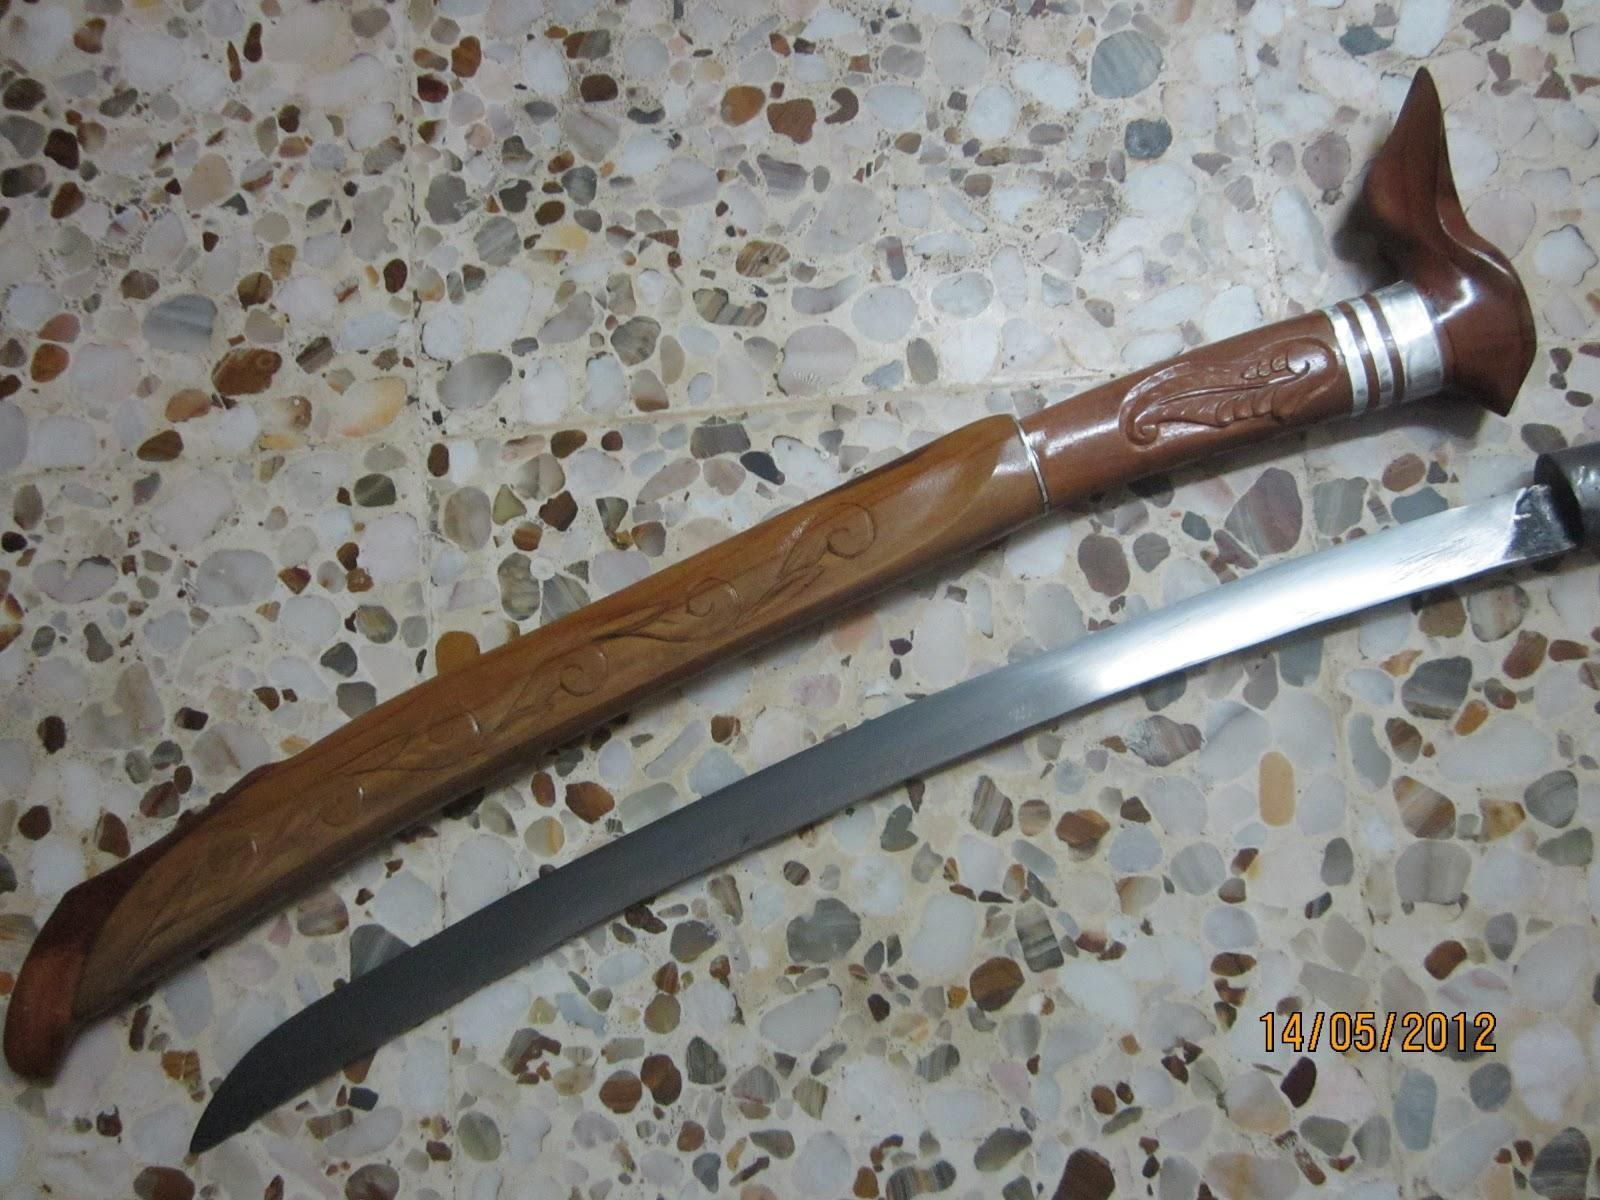espada: (112, 417, 1600, 1195)
